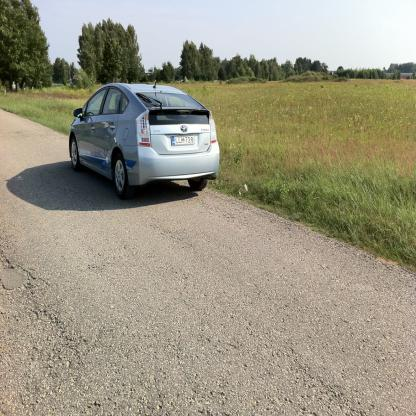Car: (62, 76, 226, 206)
